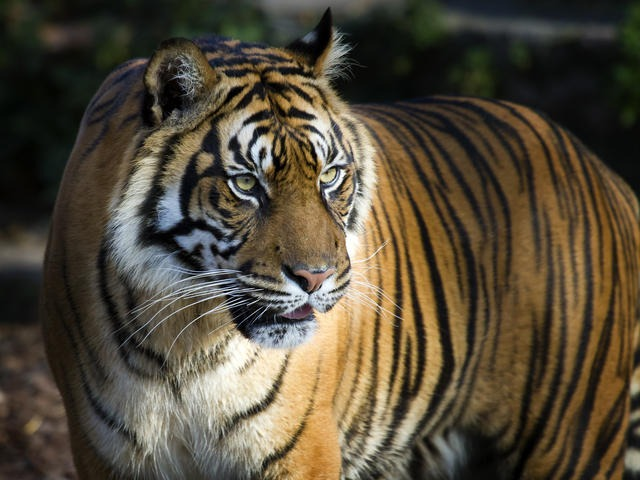tiger: (30, 6, 640, 479)
